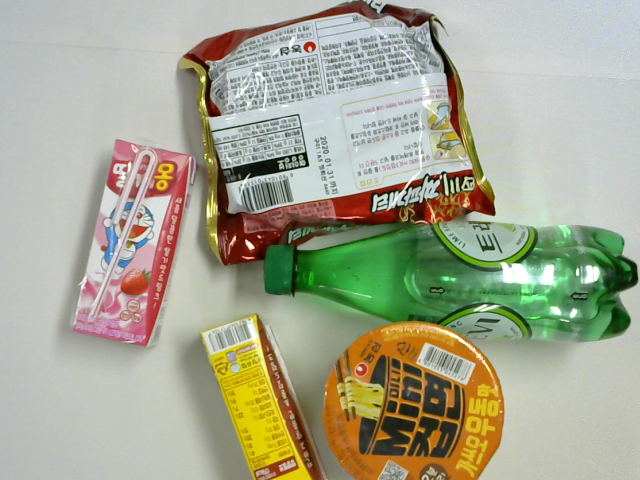Choco_E_Mong: (207, 307, 333, 480)
Sichuan_Chapaghetti: (148, 18, 474, 226)
Strawberry_E_Mong: (70, 137, 204, 340)
Treviraim_500ml: (266, 190, 631, 349)
Udongmini: (322, 326, 527, 480)
